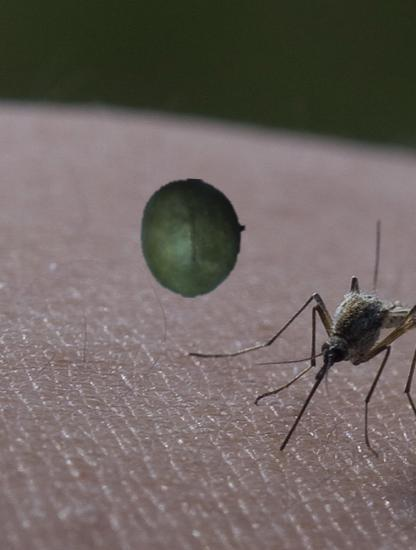Mango: (133, 179, 252, 298)
